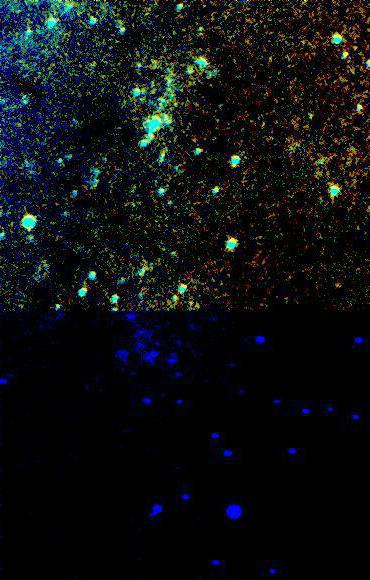star: (341, 32, 370, 62)
